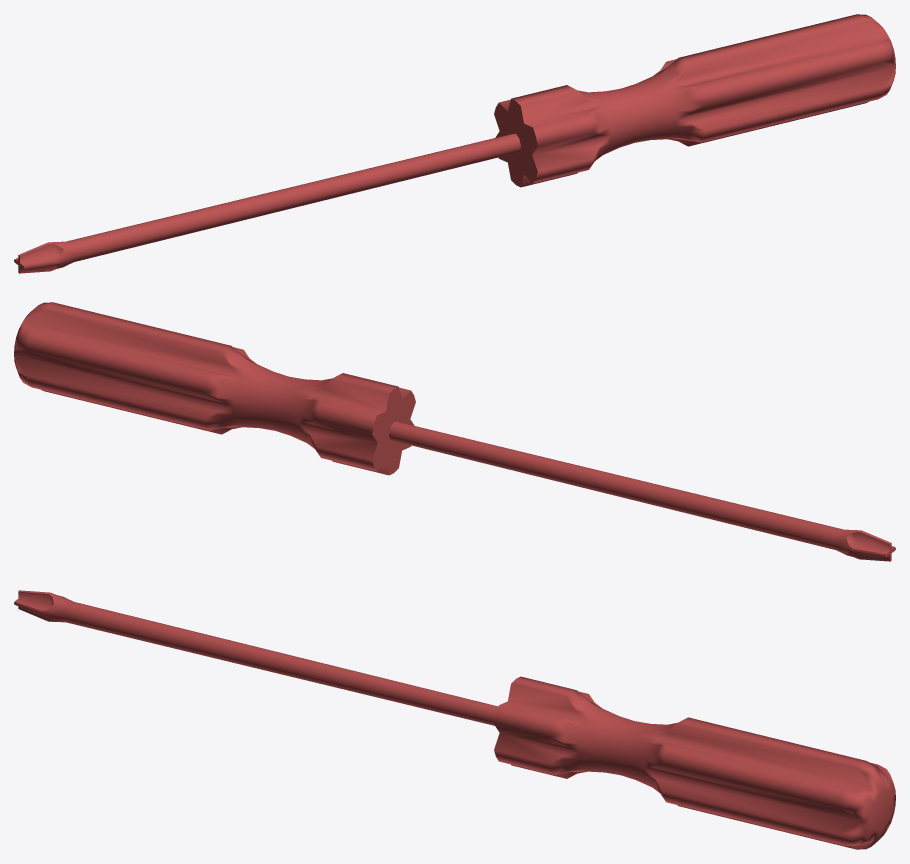
Rendered from Otvertka_LP.fbx.
3 views of the same model, one above another, from view 1: azimuth 30°, elevation 25°; view 2: azimuth 150°, elevation 25°; view 3: azimuth 330°, elevation 25° (orthographic).
Visible parts, largest first — view 1: Ruchka_low, Sverlo_low; view 2: Ruchka_low, Sverlo_low; view 3: Ruchka_low, Sverlo_low.
Part boxes in pixels (x1=…): Ruchka_low: x1=494, y1=14, x2=895, y2=187; Sverlo_low: x1=14, y1=133, x2=520, y2=273; Ruchka_low: x1=14, y1=302, x2=415, y2=475; Sverlo_low: x1=389, y1=421, x2=895, y2=561; Ruchka_low: x1=494, y1=676, x2=895, y2=849; Sverlo_low: x1=14, y1=590, x2=498, y2=725.
Bounding box in the file's own units: 61.82 × 5.75 × 5.44.
